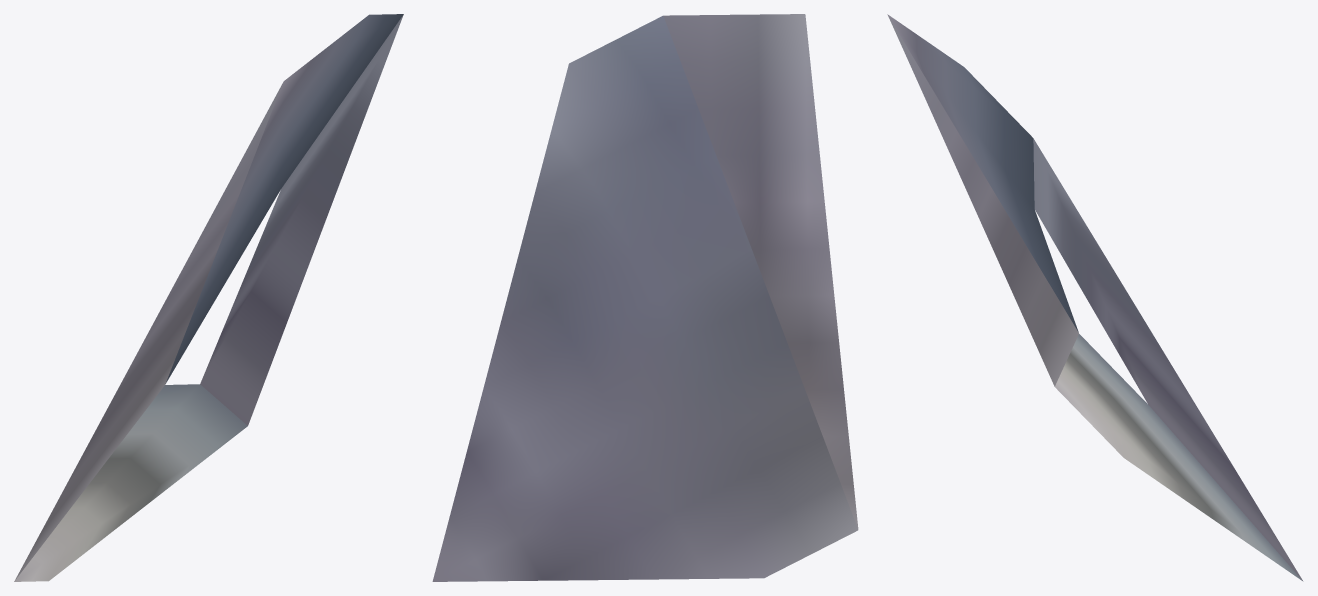
The picture shows the model from 3 angles, left to right: view 1: azimuth 30°, elevation 25°; view 2: azimuth 150°, elevation 25°; view 3: azimuth 270°, elevation 25°; orthographic projection. The views are drawn at different scales.
Bounding box in the file's own units: 4.62 × 6.68 × 5.24.
1 material, 1 textured.
